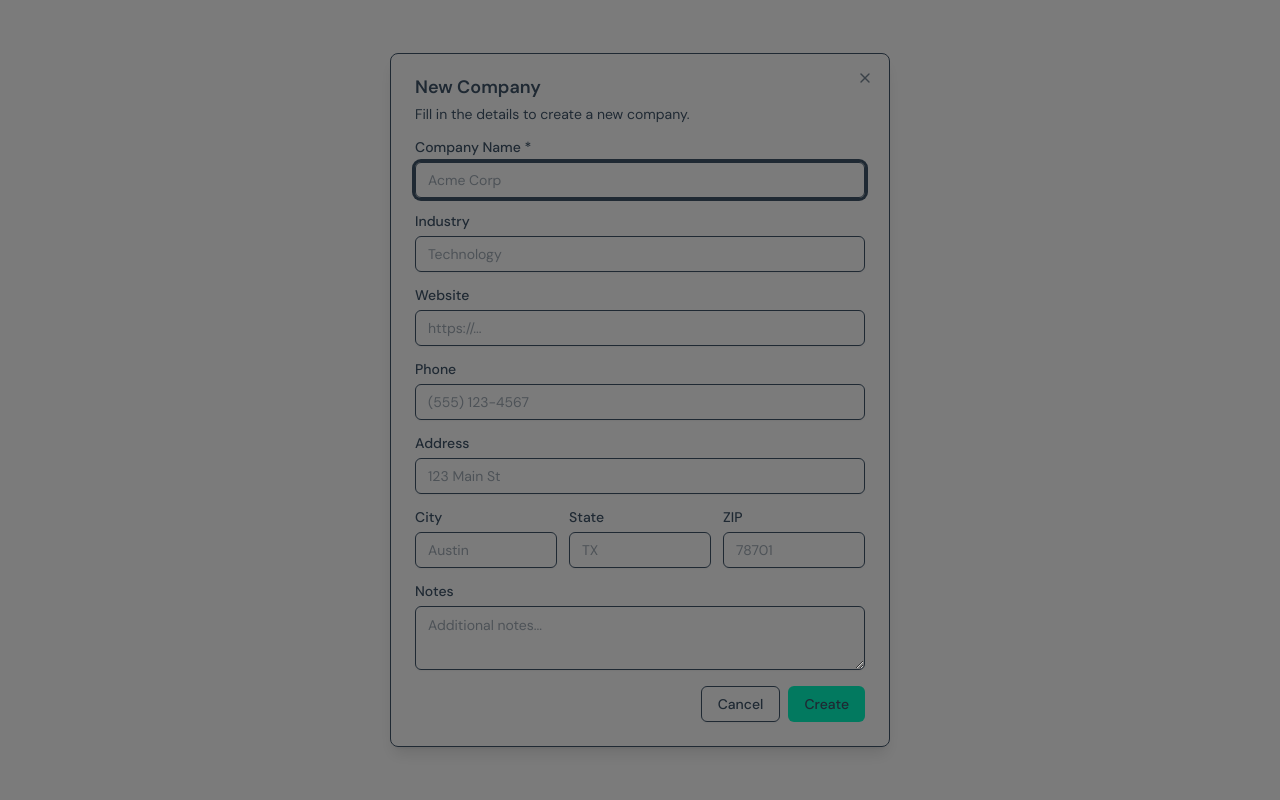
it: CompanyFormDialog › shows a validation error when the name is missing
Click the button "Create" at (827, 704), box x1=788 y1=686 x2=865 y2=722
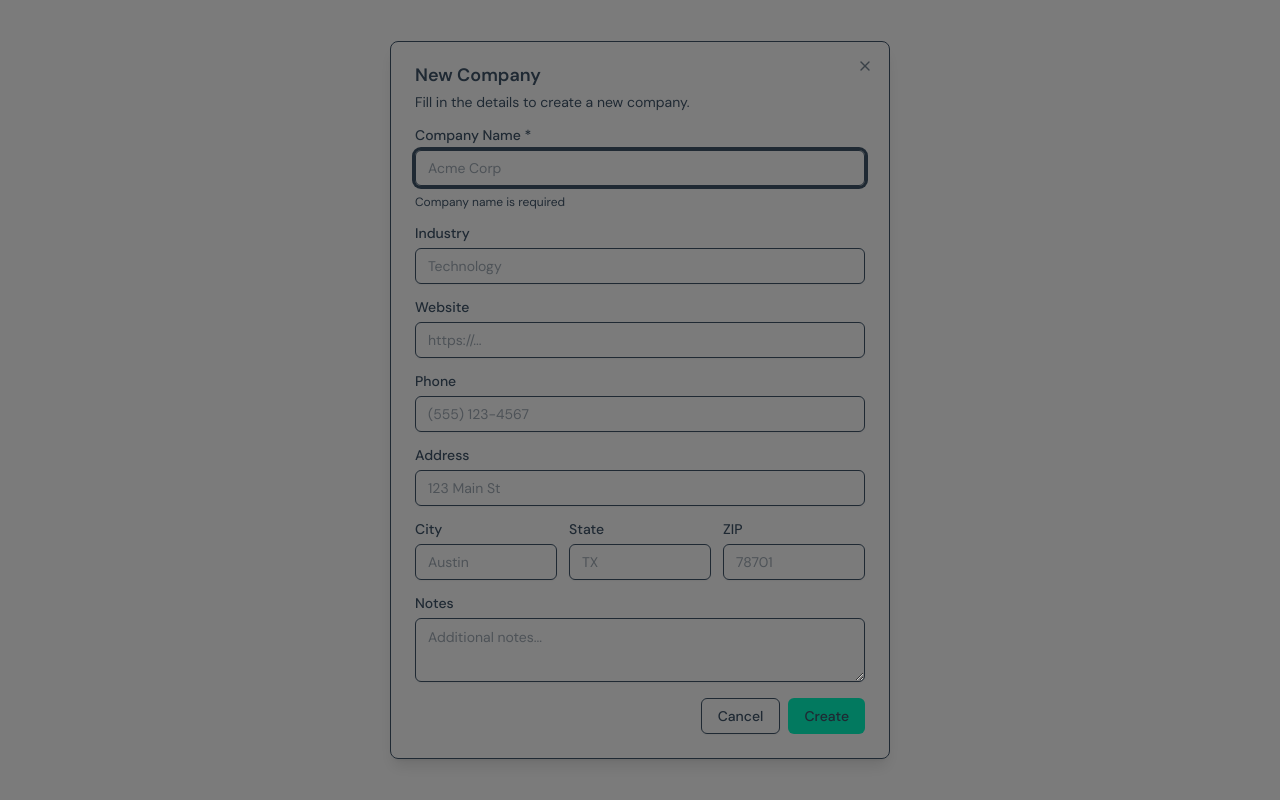
Result: the text "Company name is required" is shown at x1=415 y1=194 x2=565 y2=210
